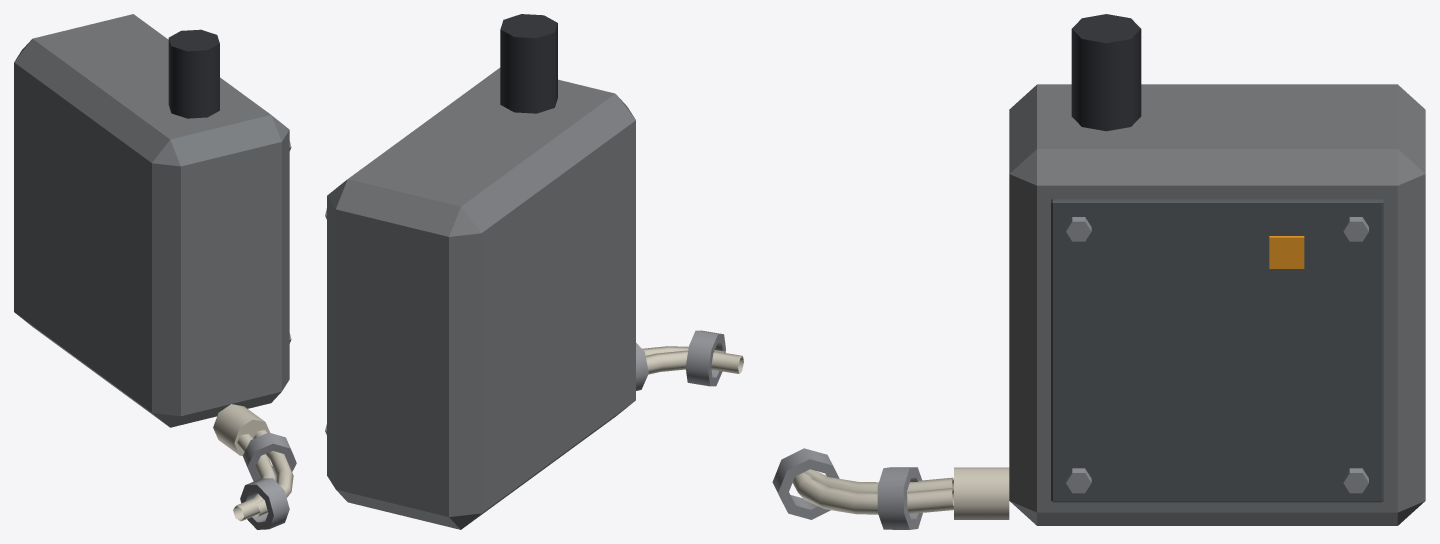
File: fcrcs_driver.obj
3 renders of one model, left to right at view 1: azimuth 30°, elevation 25°; view 2: azimuth 150°, elevation 25°; view 3: azimuth 270°, elevation 25°, orthographic. The views are drawn at different scales.
Parts seen in each view (by area): view 1: fcrcs_driver; view 2: fcrcs_driver; view 3: fcrcs_driver.
Boxes of the visible parts, x1,y1,x2,y2 form: fcrcs_driver: (14, 14, 296, 529); fcrcs_driver: (325, 14, 743, 529); fcrcs_driver: (772, 14, 1425, 529).
Bounding box in the file's own units: 0.1694 × 0.4086 × 0.4708.
